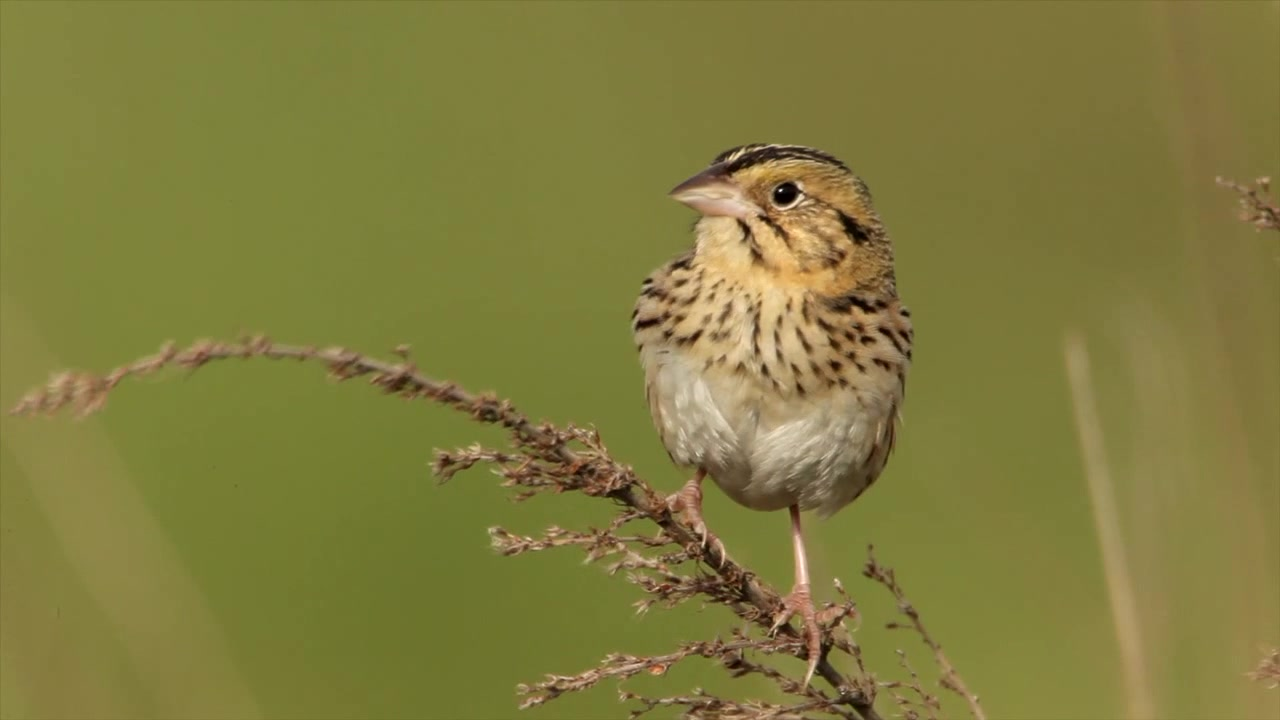bird: (632, 142, 916, 693)
